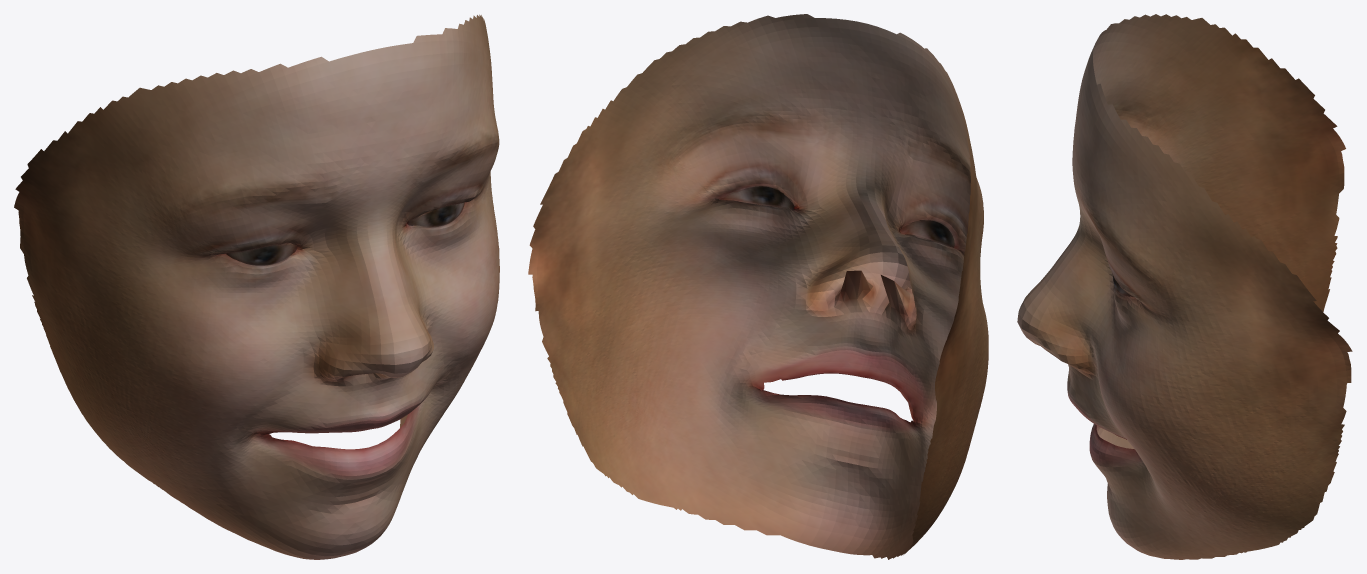
File: boy_mm.obj
The picture shows the model from 3 angles, left to right: view 1: azimuth 30°, elevation 25°; view 2: azimuth 150°, elevation 25°; view 3: azimuth 270°, elevation 25°; orthographic projection. The views are drawn at different scales.
Bounding box in the file's own units: 1.45 × 1.67 × 1.03.
